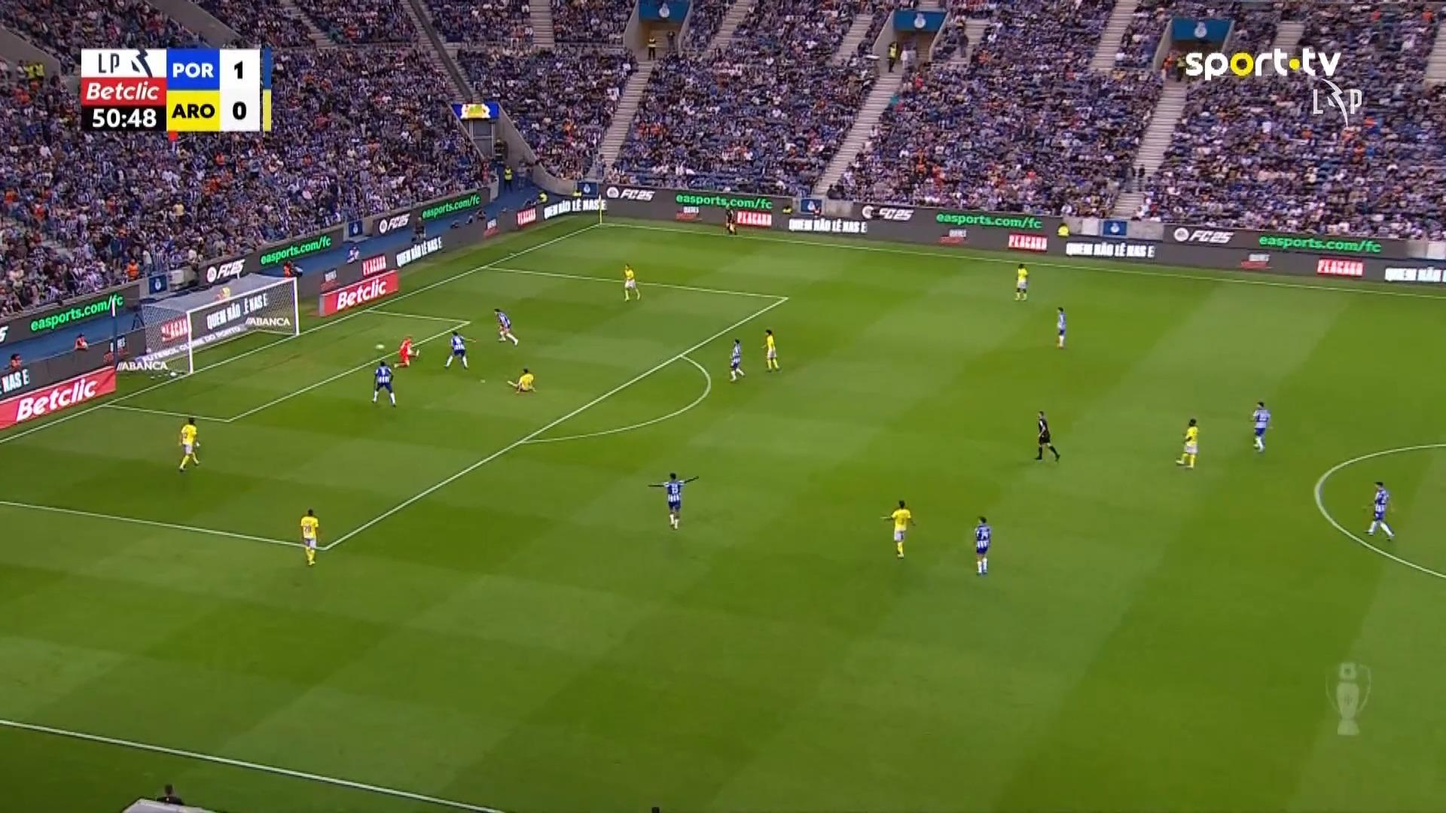ball: (374, 343, 384, 350)
goalkeeper: (395, 335, 420, 367)
player: (647, 471, 698, 529), (880, 498, 916, 558), (1365, 480, 1394, 540), (176, 416, 200, 471), (1175, 417, 1199, 468), (371, 358, 396, 406), (299, 507, 319, 565), (444, 329, 472, 370), (1250, 400, 1271, 452), (973, 515, 991, 575), (493, 307, 518, 345), (762, 327, 780, 371), (728, 337, 745, 382), (622, 263, 640, 301), (1013, 262, 1029, 300), (514, 367, 535, 393), (1054, 306, 1066, 348)
referee: (1034, 410, 1060, 461), (723, 206, 737, 235)
